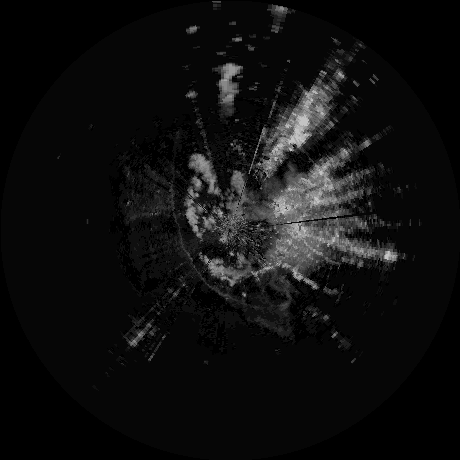frontgust: (167, 171, 184, 252)
